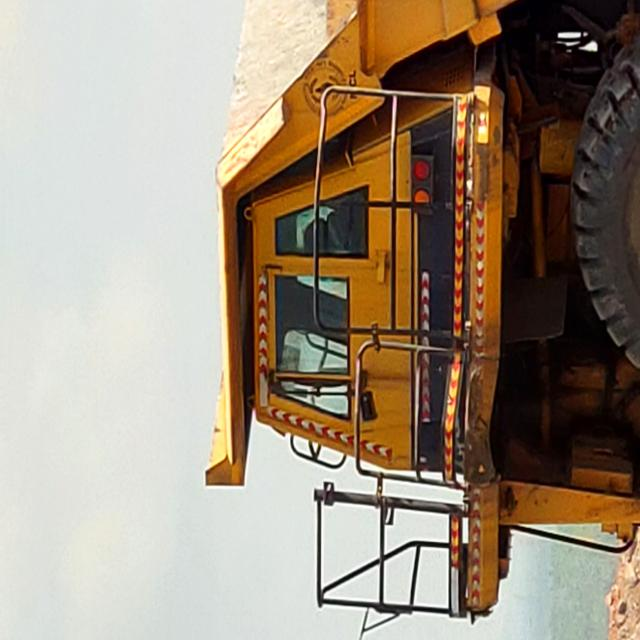dump_truck: (22, 276, 480, 640)
